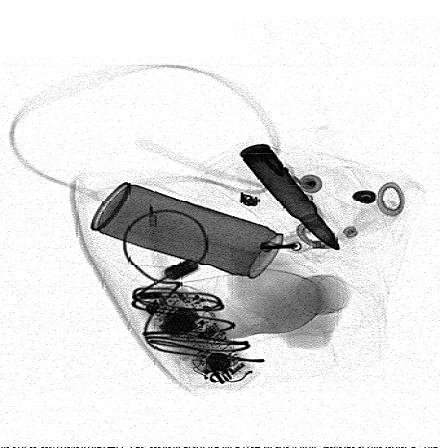Bullet: (238, 144, 343, 252)
